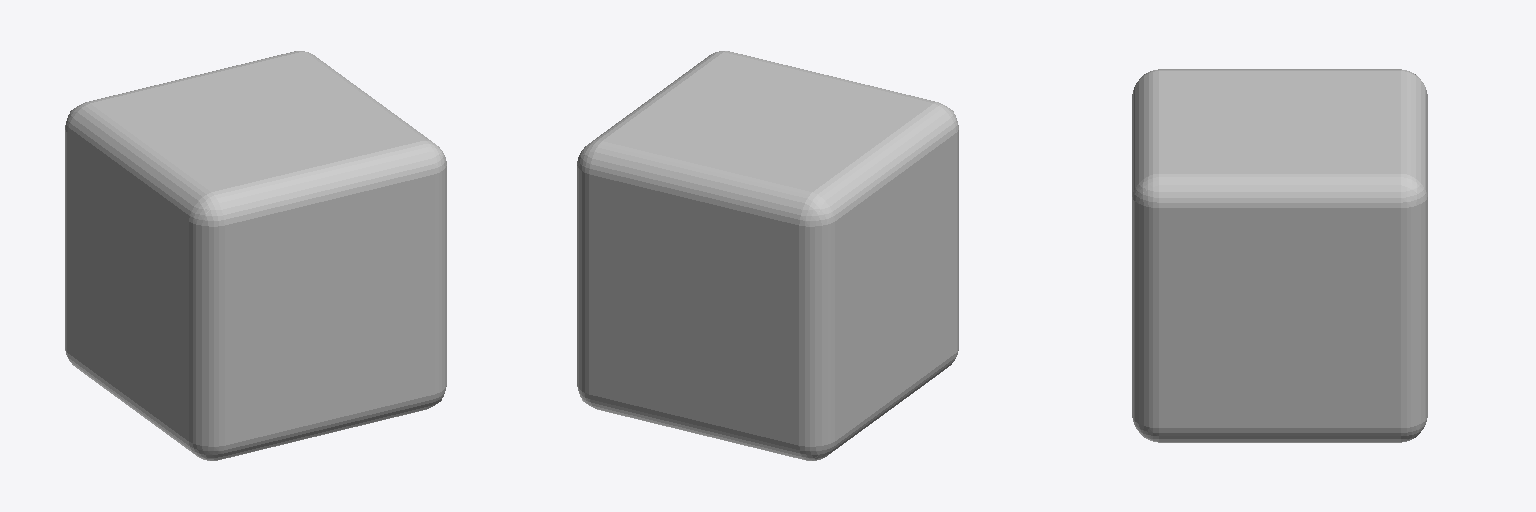
The model's file is cub.obj.
3 views of the same model, side by side, from view 1: azimuth 30°, elevation 25°; view 2: azimuth 150°, elevation 25°; view 3: azimuth 270°, elevation 25° (orthographic).
Parts seen in each view (by area): view 1: Cube_cub; view 2: Cube_cub; view 3: Cube_cub.
Part boxes in pixels (bbox=[...]): Cube_cub: bbox=[65, 51, 446, 460]; Cube_cub: bbox=[577, 51, 958, 460]; Cube_cub: bbox=[1132, 69, 1427, 442].
Bounding box in the file's own units: 2 × 2 × 2.